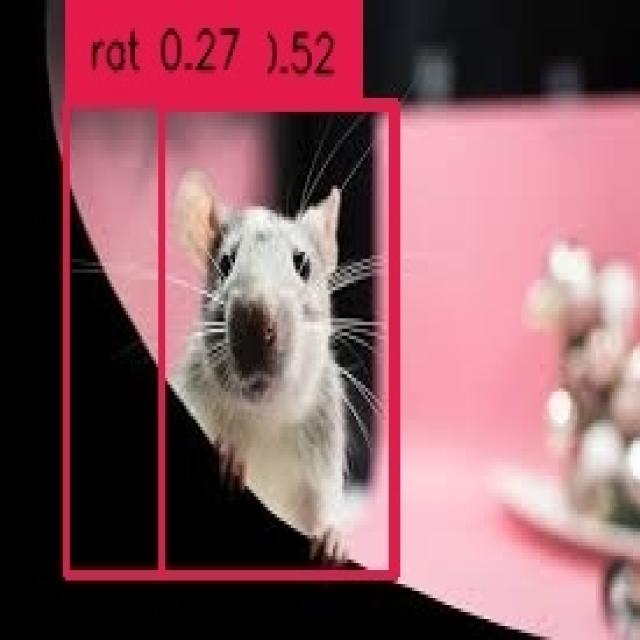rat: (63, 98, 393, 570), (158, 101, 389, 570)
